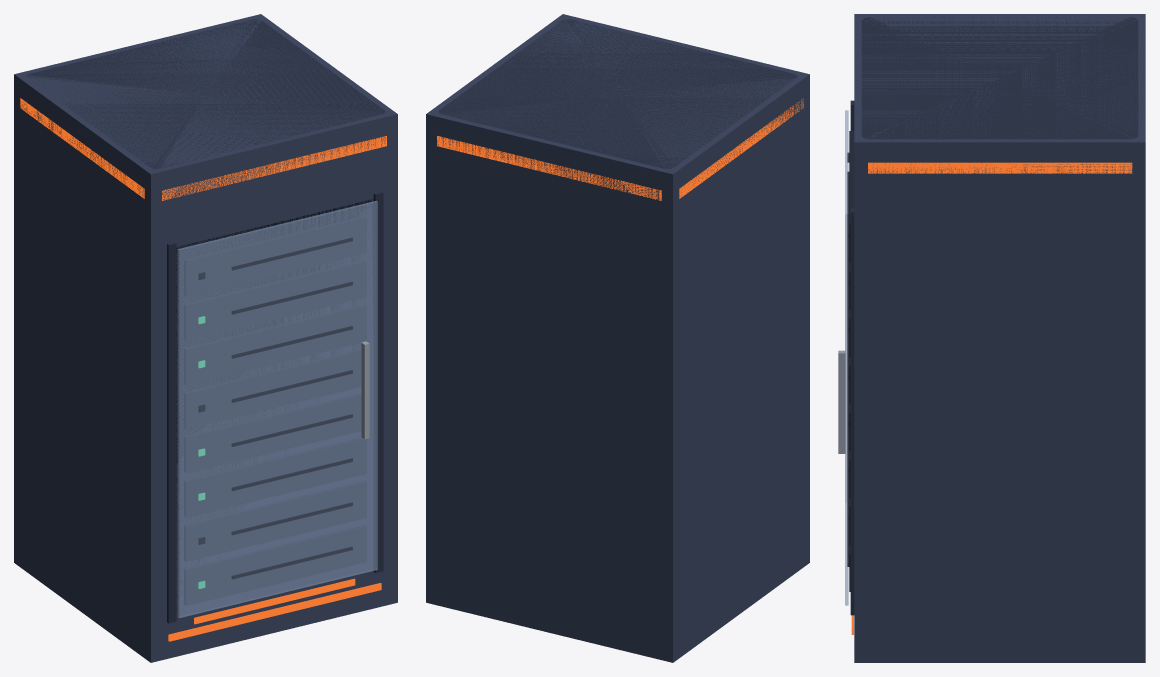
The model's file is hub.glb.
The picture shows the model from 3 angles, left to right: view 1: azimuth 30°, elevation 25°; view 2: azimuth 150°, elevation 25°; view 3: azimuth 270°, elevation 25°; orthographic projection. The views are drawn at different scales.
Parts seen in each view (by area): view 1: body, door (×2), bay (×8), cap, post (×2), interior, top, status (×2), door handle; view 2: body, cap, top; view 3: body, cap, top, door (×2), post, door handle, bay.
Part boxes in pixels (x1=…): body: x1=14, y1=14, x2=397, y2=662; door (×2): x1=178, y1=201, x2=377, y2=617; bay (×8): x1=184, y1=216, x2=366, y2=605; cap: x1=26, y1=19, x2=385, y2=168; post (×2): x1=167, y1=191, x2=383, y2=623; interior: x1=176, y1=199, x2=373, y2=598; top: x1=20, y1=98, x2=386, y2=200; status (×2): x1=168, y1=578, x2=381, y2=641; door handle: x1=361, y1=341, x2=369, y2=439; body: x1=426, y1=14, x2=809, y2=662; cap: x1=438, y1=19, x2=797, y2=168; top: x1=437, y1=98, x2=803, y2=200; body: x1=854, y1=14, x2=1145, y2=662; cap: x1=861, y1=17, x2=1138, y2=139; top: x1=868, y1=162, x2=1132, y2=173; door (×2): x1=845, y1=110, x2=848, y2=605; post: x1=850, y1=208, x2=854, y2=615; door handle: x1=838, y1=350, x2=845, y2=453; bay: x1=849, y1=131, x2=854, y2=262.
Bounding box in the file's own units: 2.46 × 4.65 × 2.49.
